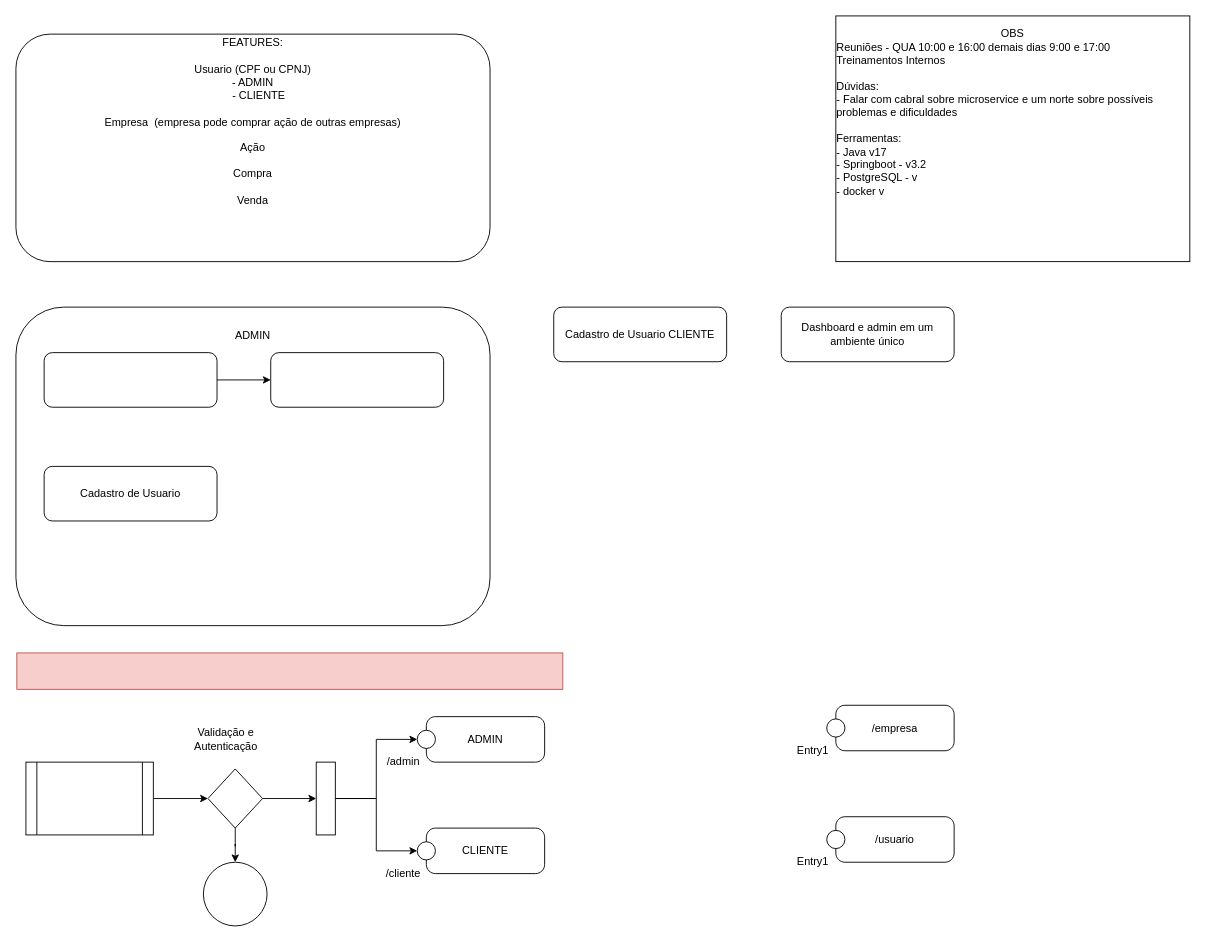
The diagram is 1206 pixels wide and 942 high, and some of its shapes have lost their labels. Each missing label, with the centre of its shape:
"API AUTENTICAÇÃO" goes at point 289,670.
"Cadastro de Empresa" goes at point 130,379.
"Cadastro dos Ações" goes at point 357,379.
"HTTP 403" goes at point 234,893.
"Login" goes at point 89,798.
